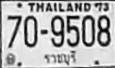0: (23, 15, 37, 47), (82, 14, 94, 46)
5: (66, 14, 79, 46)
7: (7, 14, 21, 47)
8: (96, 14, 110, 46)
9: (50, 15, 64, 46)
RBR: (42, 49, 77, 66)
